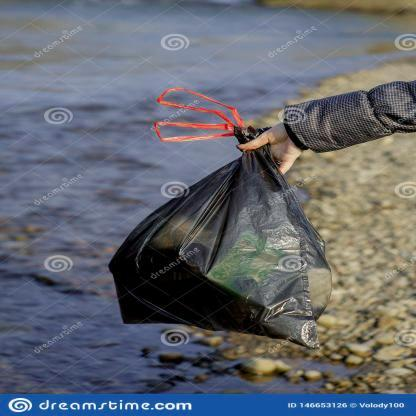Trash: (110, 158, 330, 345)
